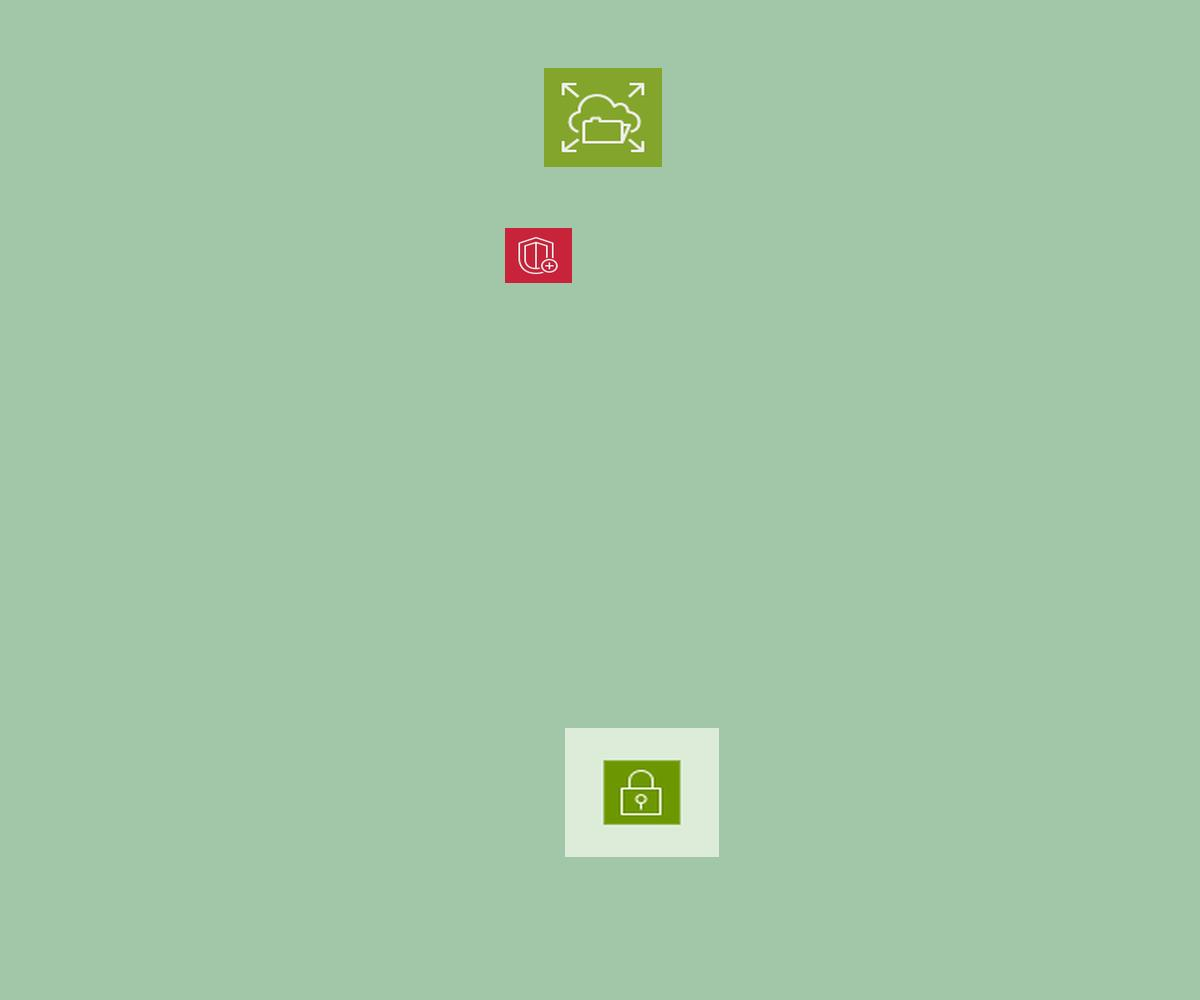AWS-EFS: (544, 68, 662, 167)
AWS-Public-subnet: (565, 728, 719, 857)
AWS-Shield: (505, 228, 572, 283)
